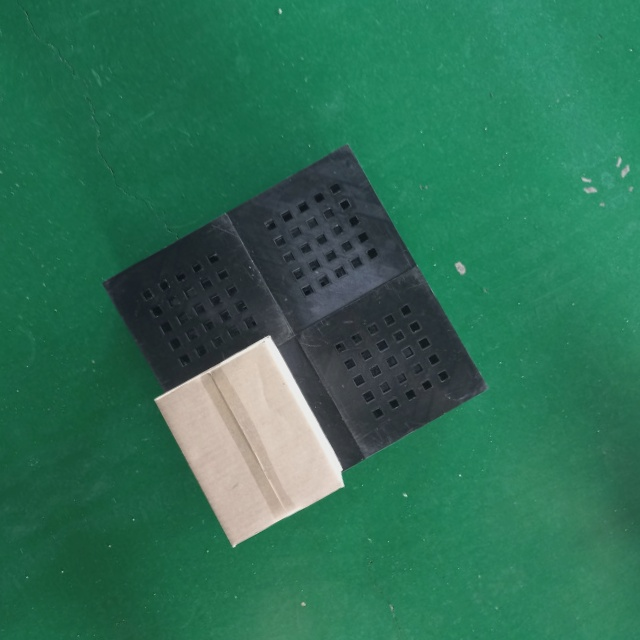box: (153, 330, 348, 551)
pallet: (87, 132, 498, 544)
